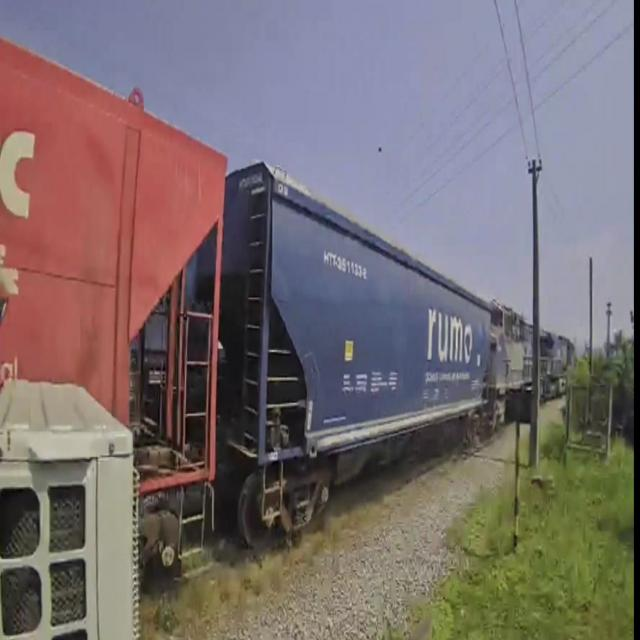hopper: (0, 18, 225, 565), (230, 144, 493, 551)
locomotive: (492, 296, 540, 430)
